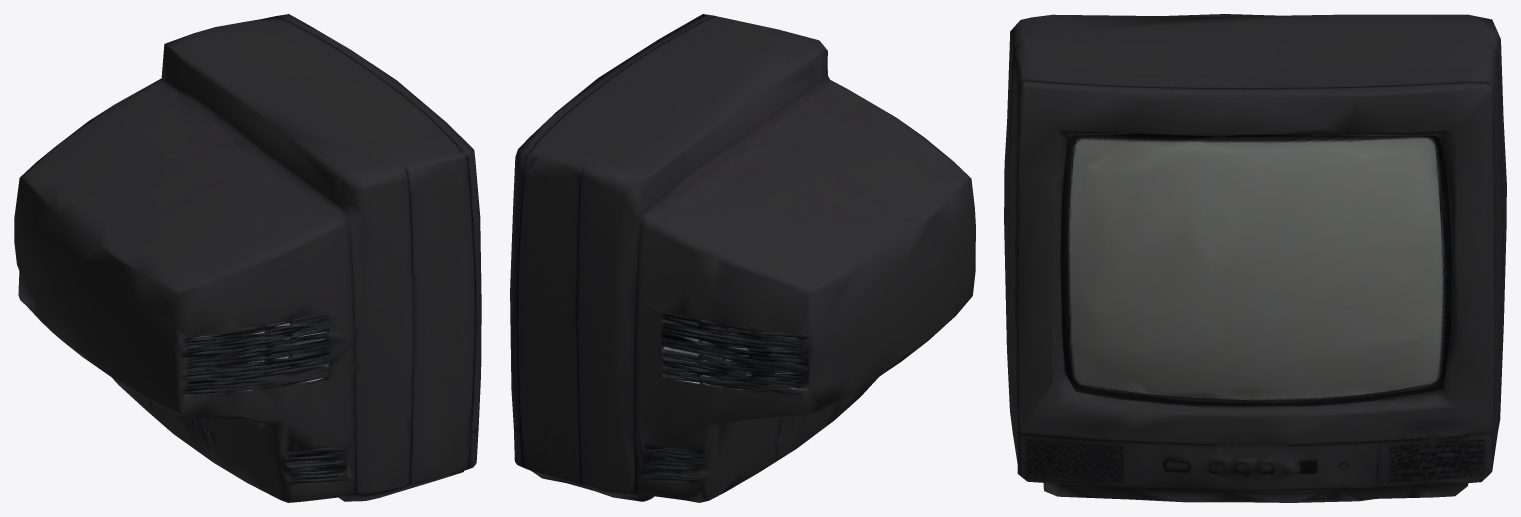
File: televisore.glb
3 renders of one model, left to right at view 1: azimuth 30°, elevation 25°; view 2: azimuth 150°, elevation 25°; view 3: azimuth 270°, elevation 25°, orthographic. The views are drawn at different scales.
Visible parts, largest first — view 1: tripo_node_e735d8d7-79d9-49e7-879e-19aae68bc678; view 2: tripo_node_e735d8d7-79d9-49e7-879e-19aae68bc678; view 3: tripo_node_e735d8d7-79d9-49e7-879e-19aae68bc678.
Part boxes in pixels (x1,y1,x2,y2): tripo_node_e735d8d7-79d9-49e7-879e-19aae68bc678: (14,14,481,502); tripo_node_e735d8d7-79d9-49e7-879e-19aae68bc678: (510,14,975,502); tripo_node_e735d8d7-79d9-49e7-879e-19aae68bc678: (1004,14,1506,502).
Bounding box in the file's own units: 0.46 × 0.45 × 0.4982.
1 material, 1 textured.
